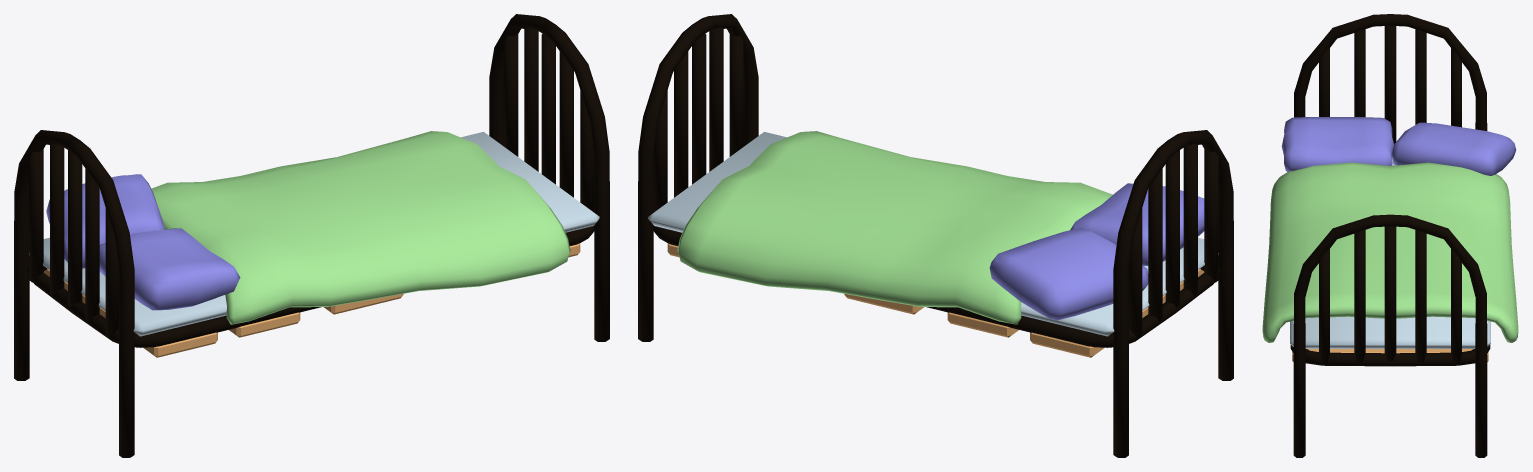
File: sanky_patjalla.fbx
3 renders of one model, left to right at view 1: azimuth 30°, elevation 25°; view 2: azimuth 150°, elevation 25°; view 3: azimuth 270°, elevation 25°, orthographic. The views are drawn at different scales.
Parts seen in each view (by area): view 1: peitto, sanky, tyyny2, patja, tyyny, laudat; view 2: peitto, sanky, tyyny, patja, tyyny2, laudat; view 3: peitto, sanky, tyyny2, tyyny, patja, laudat.
Part boxes in pixels (left/top/right/bottom): peitto: left=151, top=131, right=570, bottom=324; sanky: left=14, top=14, right=609, bottom=457; tyyny2: left=99, top=228, right=240, bottom=310; patja: left=29, top=132, right=599, bottom=336; tyyny: left=46, top=174, right=164, bottom=268; laudat: left=43, top=243, right=580, bottom=357; peitto: left=677, top=131, right=1112, bottom=324; sanky: left=638, top=14, right=1233, bottom=457; tyyny: left=989, top=227, right=1148, bottom=320; patja: left=648, top=132, right=1218, bottom=336; tyyny2: left=1070, top=183, right=1204, bottom=265; laudat: left=667, top=243, right=1204, bottom=357; peitto: left=1262, top=162, right=1518, bottom=342; sanky: left=1290, top=14, right=1490, bottom=457; tyyny2: left=1281, top=117, right=1393, bottom=171; tyyny: left=1391, top=122, right=1516, bottom=175; patja: left=1290, top=157, right=1490, bottom=348; laudat: left=1292, top=349, right=1488, bottom=363.
Size of the model in its own units: 219 by 120 by 115.
